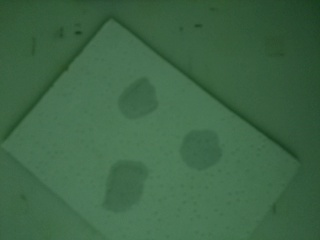Water_detected: (183, 132, 219, 166), (111, 170, 145, 200), (123, 81, 154, 112)
